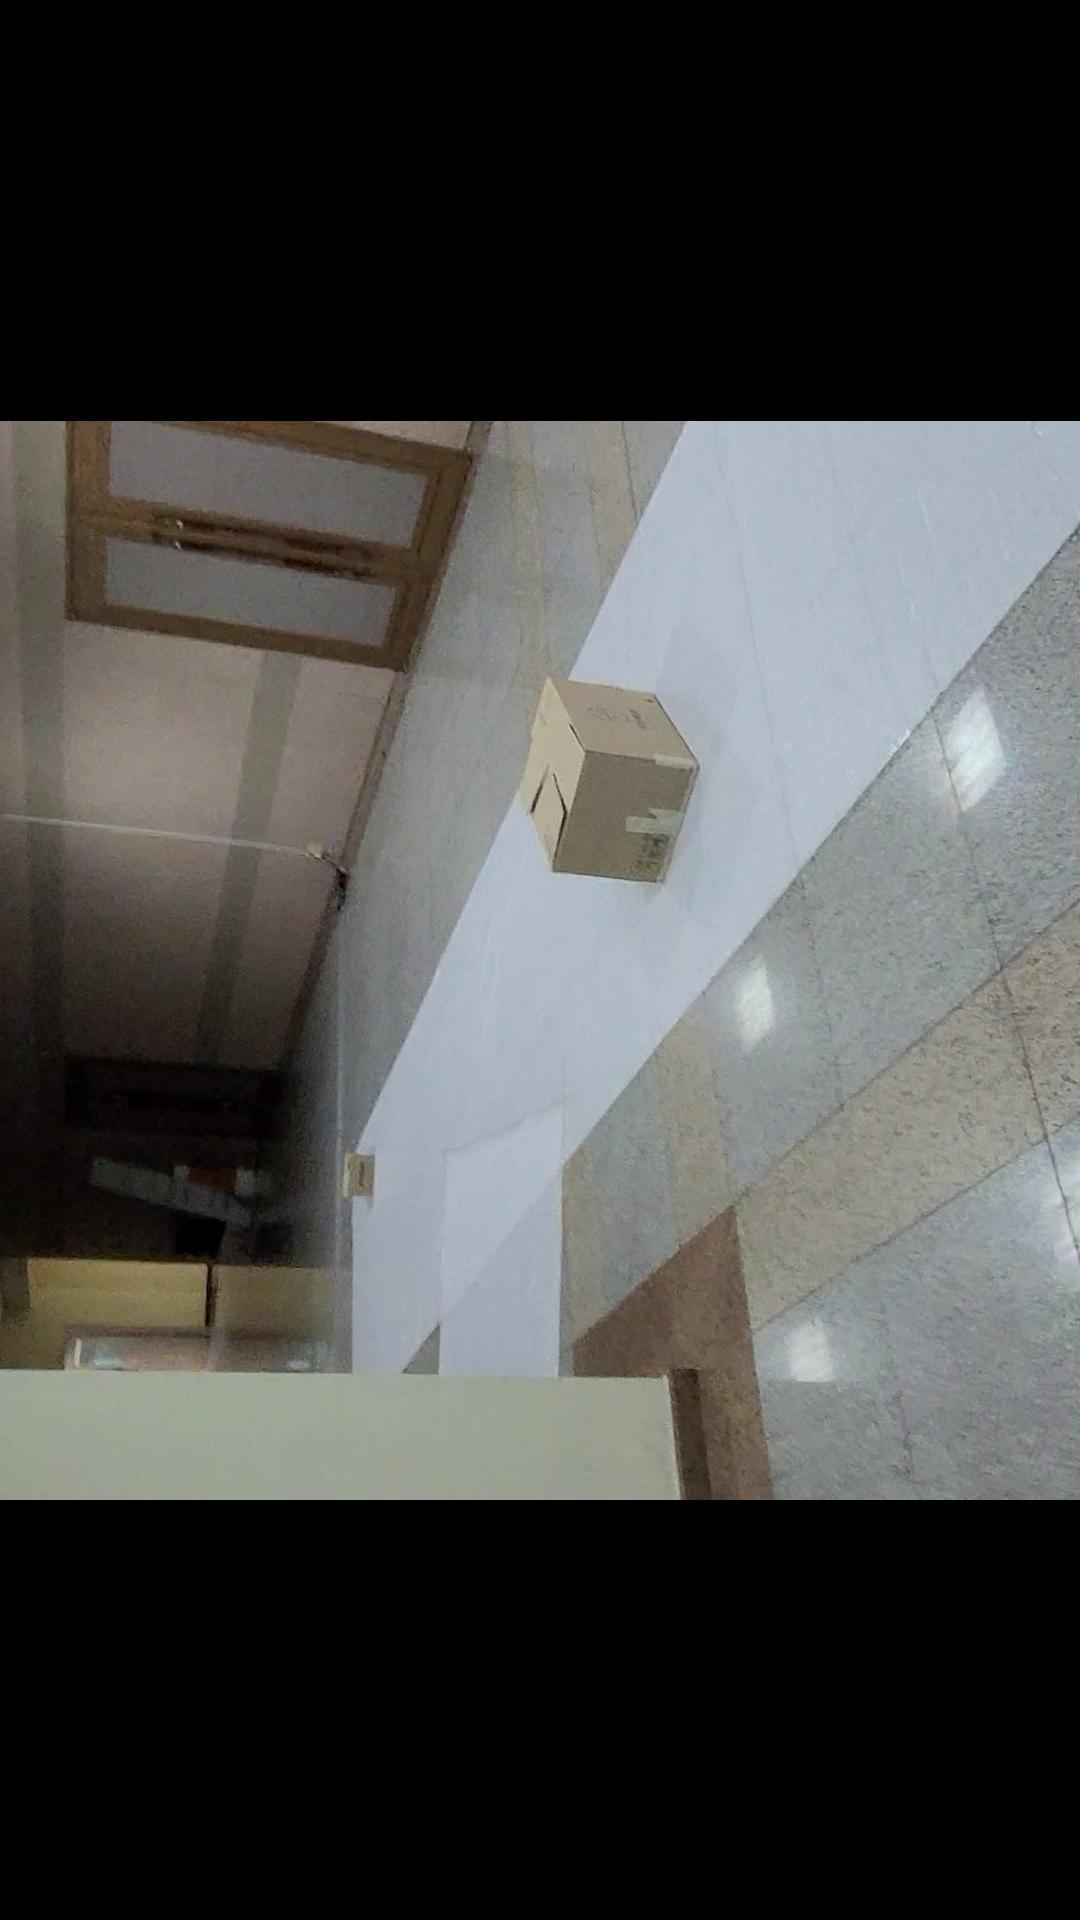Box: (483, 644, 725, 905), (320, 1127, 377, 1209)
